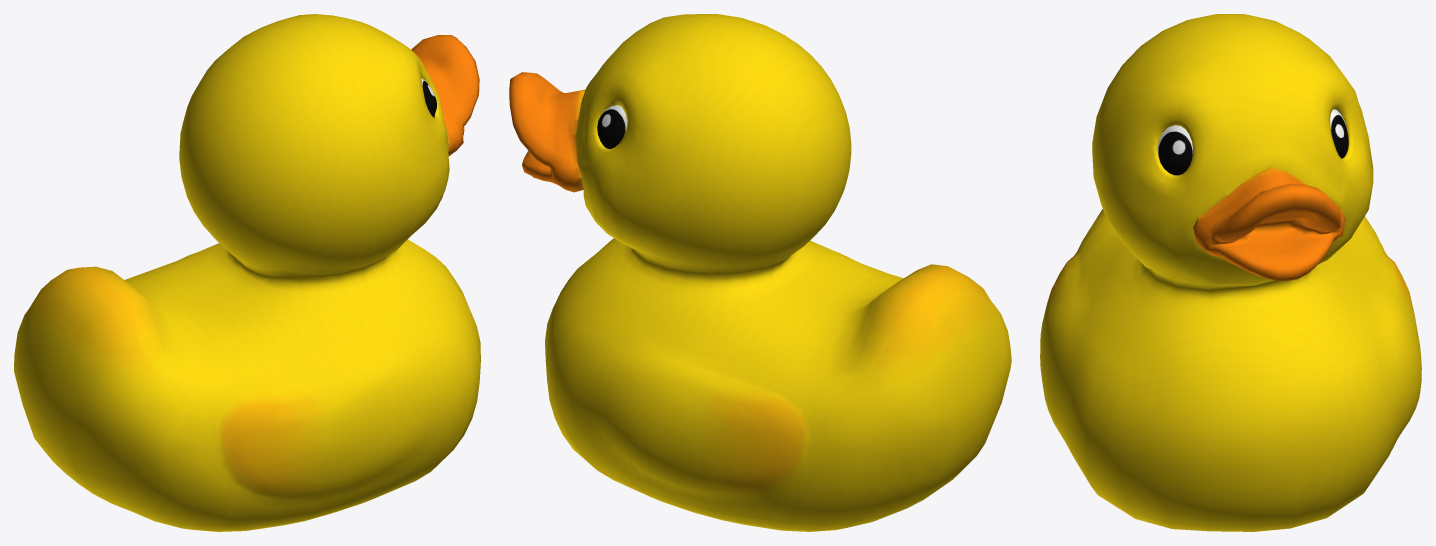
Rendered from duck.dae.
The picture shows the model from 3 angles, left to right: view 1: azimuth 30°, elevation 25°; view 2: azimuth 150°, elevation 25°; view 3: azimuth 270°, elevation 25°; orthographic projection. The views are drawn at different scales.
Visible parts, largest first — view 1: LOD3sp; view 2: LOD3sp; view 3: LOD3sp.
Part boxes in pixels (bbox=[...]): LOD3sp: bbox=[14, 14, 480, 531]; LOD3sp: bbox=[509, 14, 1011, 531]; LOD3sp: bbox=[1040, 14, 1421, 531].
Bounding box in the file's own units: 165 × 154 × 115.
